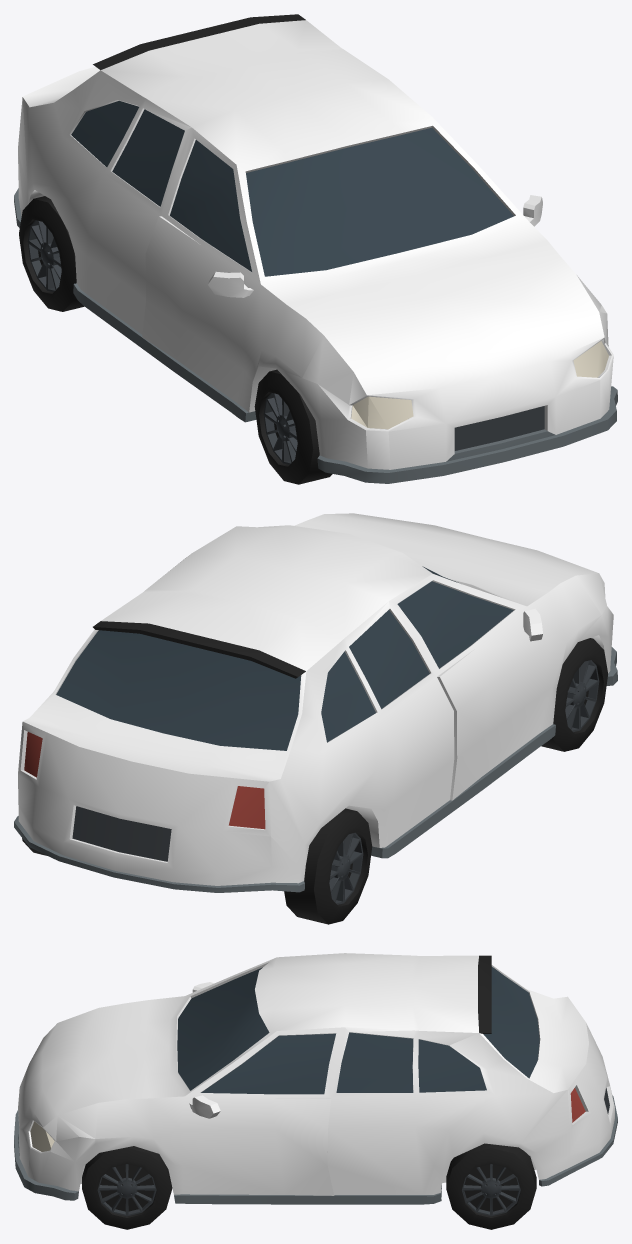
Rendered from car-hatchback.glb.
3 renders of one model, top to bottom at view 1: azimuth 30°, elevation 25°; view 2: azimuth 150°, elevation 25°; view 3: azimuth 270°, elevation 25°, orthographic. The views are drawn at different scales.
Parts seen in each view (by area): view 1: lod0; view 2: lod0; view 3: lod0.
Boxes of the visible parts, bbox=[...] form: lod0: bbox=[14, 14, 617, 484]; lod0: bbox=[14, 513, 617, 924]; lod0: bbox=[14, 953, 617, 1229].
Size of what is drawn, in the model's own units: 2.08 by 1.45 by 4.2.
